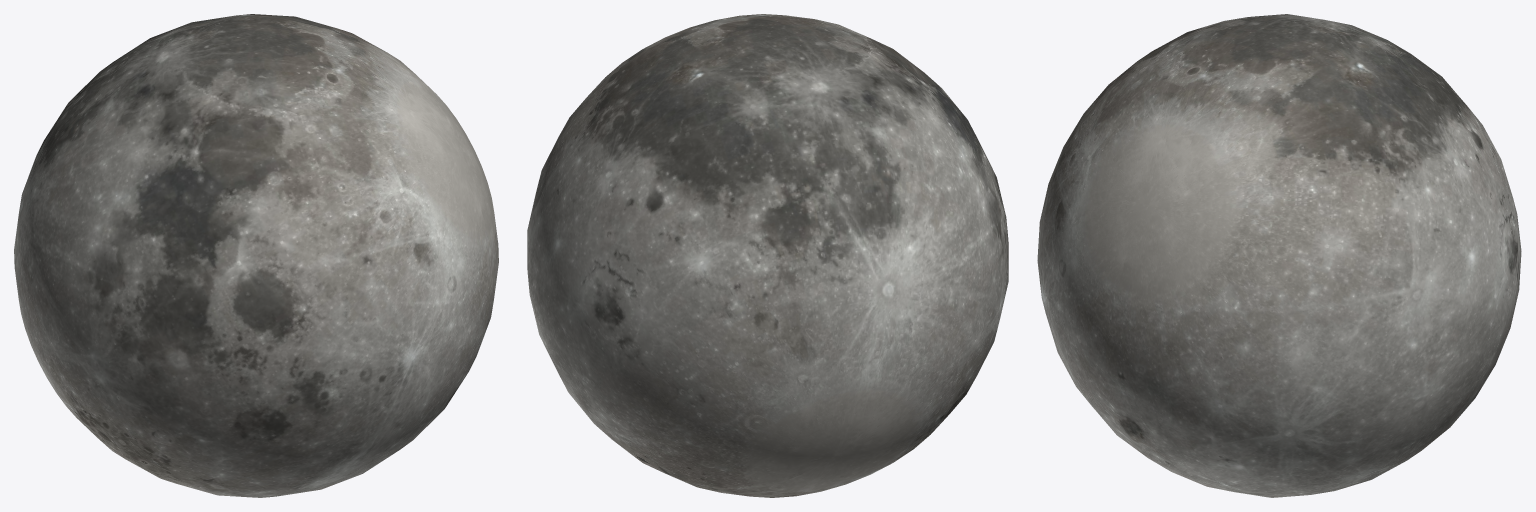
Rendered from Moon.glb.
3 renders of one model, left to right at view 1: azimuth 30°, elevation 25°; view 2: azimuth 150°, elevation 25°; view 3: azimuth 270°, elevation 25°, orthographic.
Visible parts, largest first — view 1: MoonObject; view 2: MoonObject; view 3: MoonObject.
Part boxes in pixels (bbox=[...]): MoonObject: bbox=[14, 14, 498, 497]; MoonObject: bbox=[527, 14, 1008, 497]; MoonObject: bbox=[1037, 14, 1521, 497].
Size of the model in its own units: 0.6075 by 0.6086 by 0.6091.
Materials: 1 (1 with a texture image).
